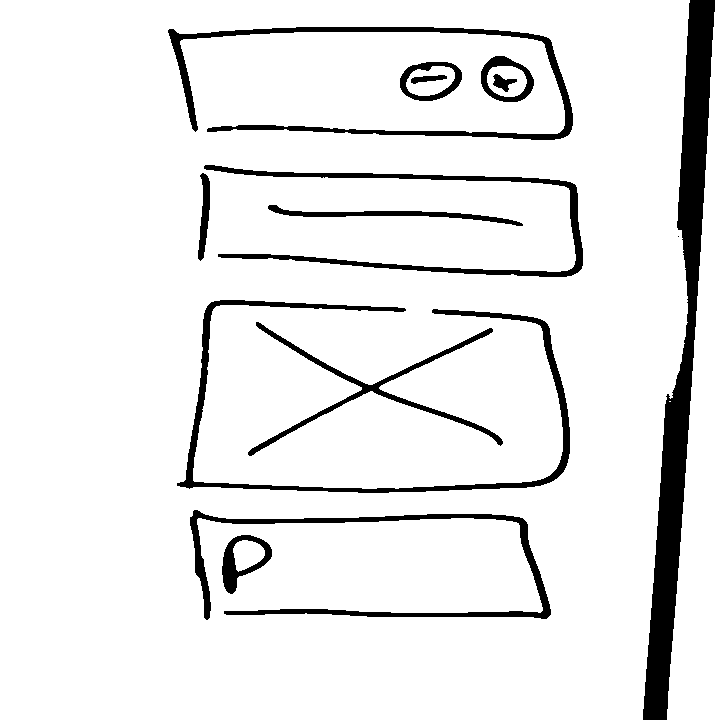button: (193, 160, 591, 287)
inline stepper bar: (165, 16, 578, 149)
paragraph: (184, 503, 556, 628)
picture: (177, 296, 579, 496)
